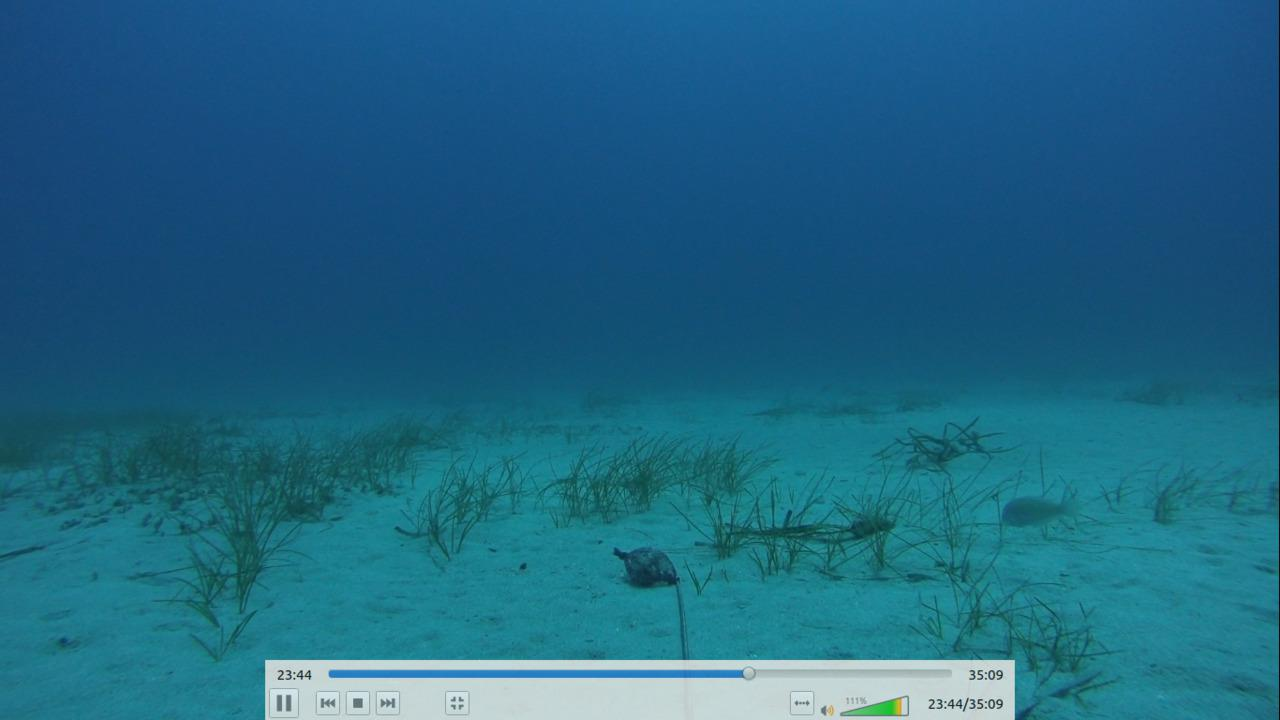raor: (997, 493, 1067, 527)
